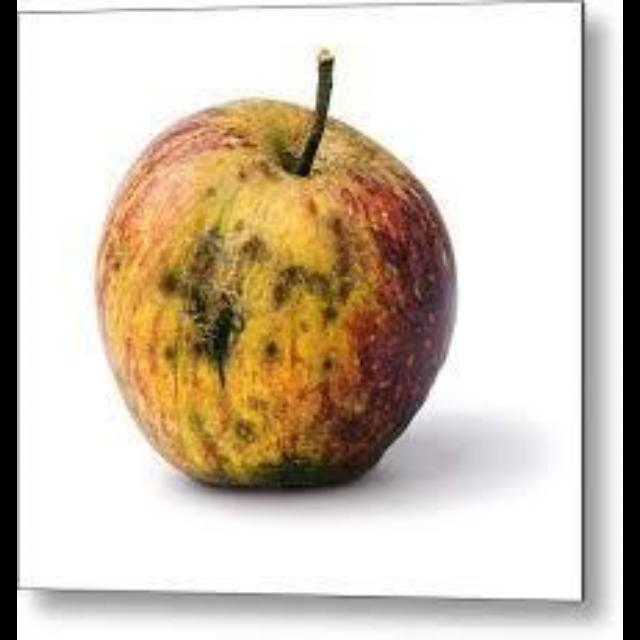apple: (97, 50, 455, 485)
rotten: (97, 50, 455, 485)
